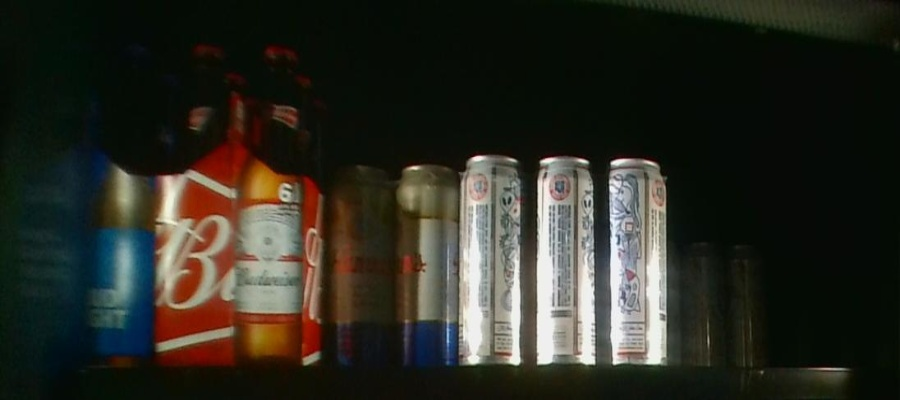bottle: (158, 39, 321, 367), (459, 155, 670, 367), (26, 47, 154, 368), (327, 166, 459, 371), (680, 241, 762, 370)
